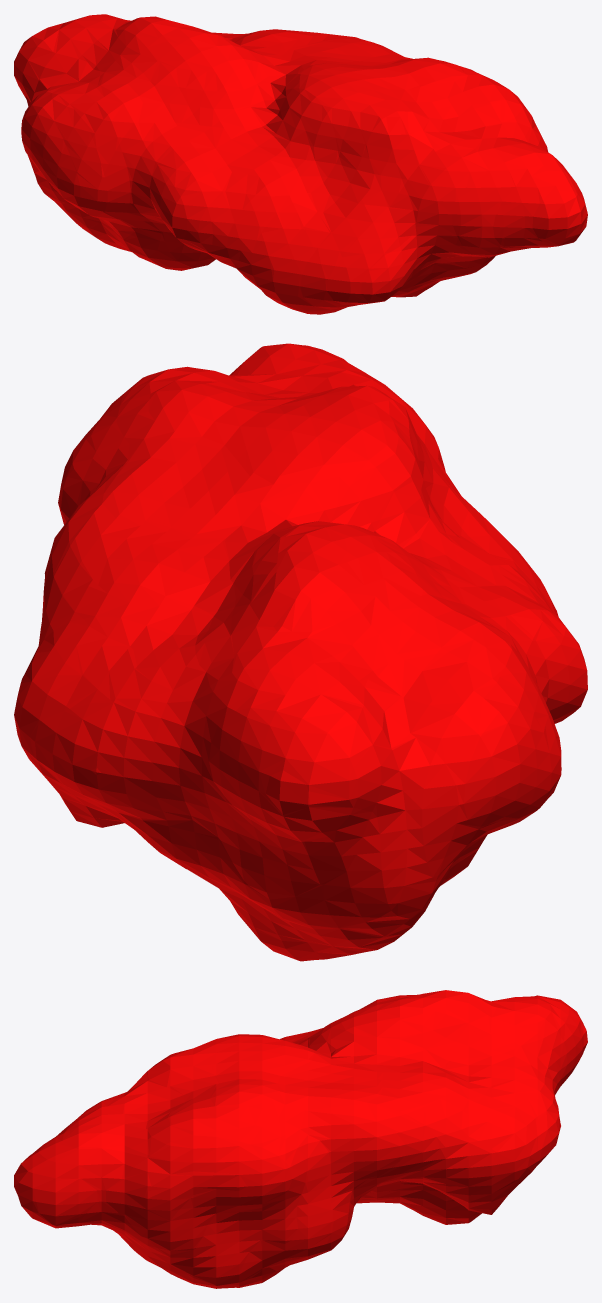
File: ybaQ_coarse.dae
3 views of the same model, one above another, from view 1: azimuth 30°, elevation 25°; view 2: azimuth 150°, elevation 25°; view 3: azimuth 270°, elevation 25° (orthographic). The views are drawn at different scales.
Parts seen in each view (by area): view 1: ybaQ; view 2: ybaQ; view 3: ybaQ.
Part boxes in pixels (left/top/right/bottom): ybaQ: left=14, top=14, right=587, bottom=314; ybaQ: left=14, top=343, right=587, bottom=961; ybaQ: left=14, top=990, right=587, bottom=1288.
Size of the model in its own units: 53.66 by 31.59 by 71.04.
